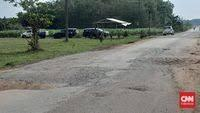Pothole: (0, 63, 146, 97), (134, 52, 200, 74), (157, 42, 173, 56)
